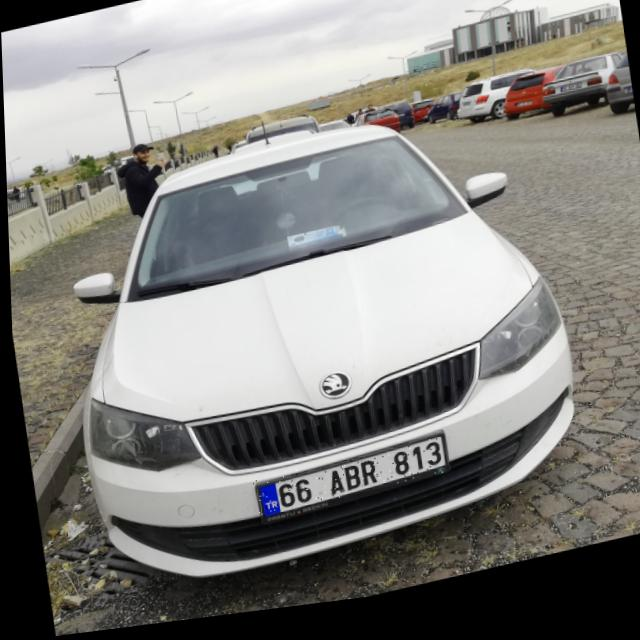license_plate: (248, 446, 444, 523)
